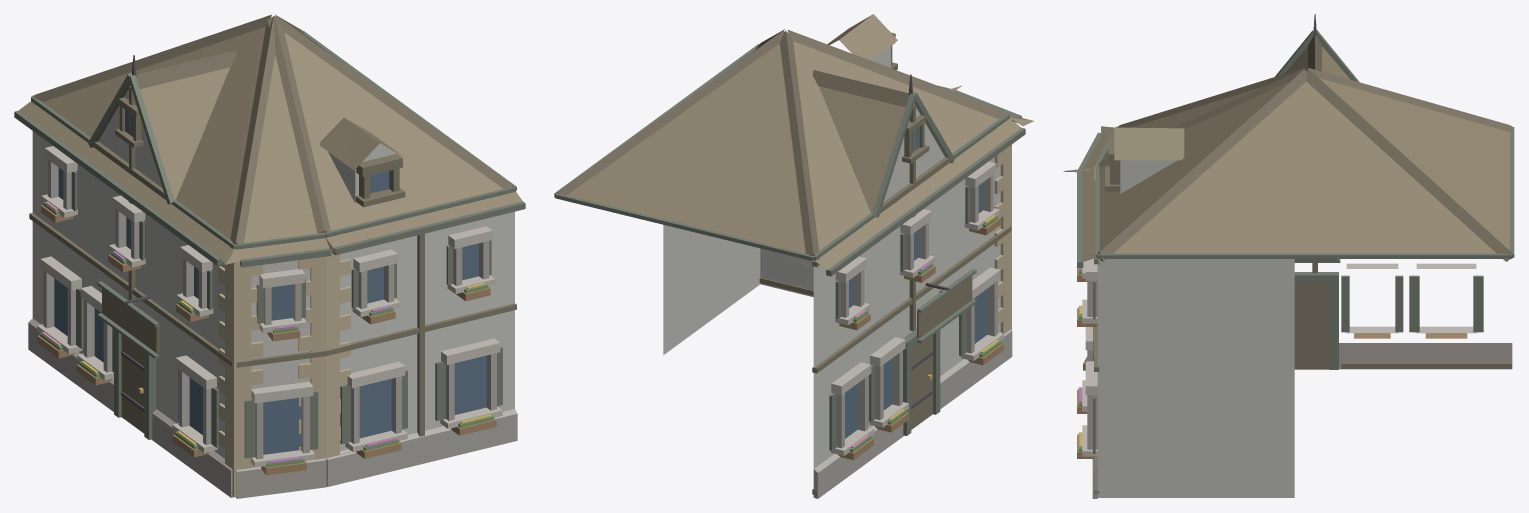
3 views of the same model, side by side, from view 1: azimuth 30°, elevation 25°; view 2: azimuth 150°, elevation 25°; view 3: azimuth 270°, elevation 25° (orthographic). The views are drawn at different scales.
Parts seen in each view (by area): view 1: B106_visible; view 2: B106_visible; view 3: B106_visible.
Part boxes in pixels (x1,y1,x2,y2): B106_visible: [14, 14, 525, 498]; B106_visible: [554, 14, 1033, 498]; B106_visible: [1063, 14, 1514, 498].
Bounding box in the file's own units: 8.03 × 9.78 × 10.89.
